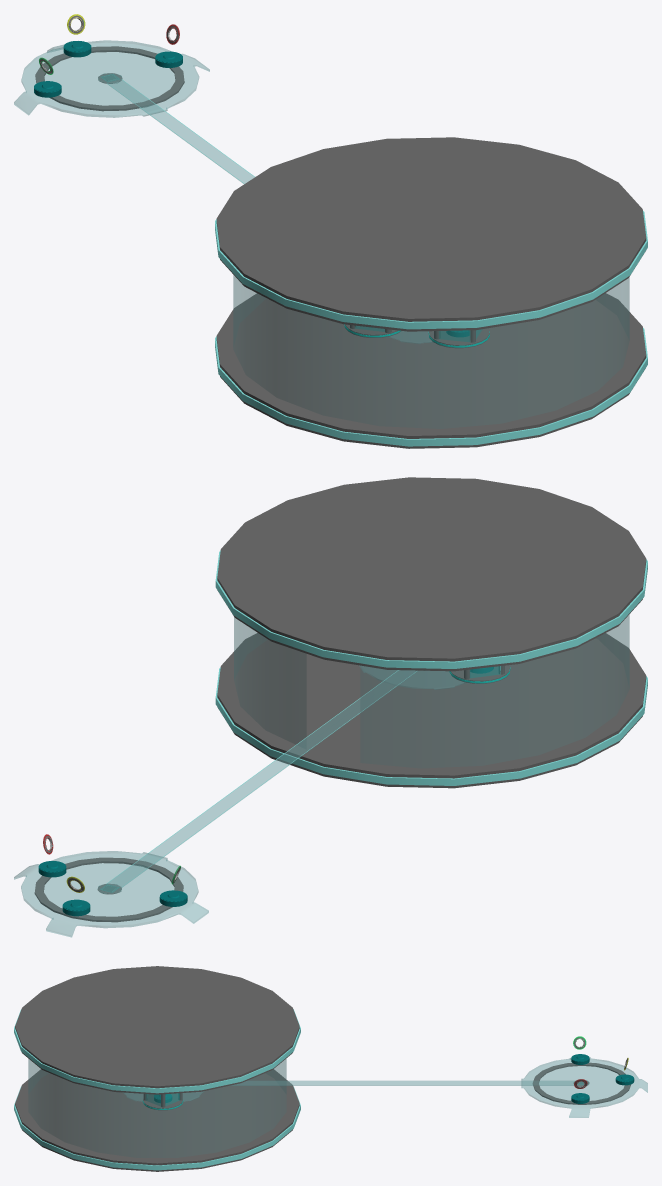
The model's file is MAINMENU (8).fbx.
3 renders of one model, top to bottom at view 1: azimuth 30°, elevation 25°; view 2: azimuth 150°, elevation 25°; view 3: azimuth 270°, elevation 25°, orthographic. The views are drawn at different scales.
Parts seen in each view (by area): view 1: pCylinder83, pCylinder84, pCylinder82, pCylinder87, pCylinder85, pCylinder86, pCube10, pPipe1, pCylinder11; view 2: pCylinder83, pCylinder84, pCylinder82, pCylinder87, pCube10, pCylinder85, pCylinder86, pPipe1, pCylinder81; view 3: pCylinder83, pCylinder84, pCylinder82, pCylinder87, pCube10, pCylinder86, pCylinder85, pPipe1, pCylinder7, pCylinder51.
Boxes of the visible parts, x1,y1,x2,y2 form: pCylinder83: [216, 137, 646, 331]; pCylinder84: [216, 293, 646, 448]; pCylinder82: [233, 275, 629, 428]; pCylinder87: [14, 40, 209, 117]; pCylinder85: [215, 211, 647, 329]; pCylinder86: [215, 328, 647, 446]; pCube10: [107, 79, 254, 183]; pPipe1: [35, 46, 184, 111]; pCylinder11: [429, 328, 489, 348]; pCylinder83: [217, 477, 646, 671]; pCylinder84: [217, 633, 646, 788]; pCylinder82: [234, 614, 629, 768]; pCylinder87: [14, 851, 208, 937]; pCube10: [106, 670, 417, 887]; pCylinder85: [215, 550, 647, 668]; pCylinder86: [215, 667, 647, 785]; pPipe1: [34, 857, 183, 922]; pCylinder81: [359, 665, 465, 689]; pCylinder83: [15, 966, 299, 1094]; pCylinder84: [15, 1069, 299, 1171]; pCylinder82: [28, 1058, 286, 1157]; pCylinder87: [521, 1057, 647, 1117]; pCube10: [230, 1080, 574, 1085]; pCylinder86: [14, 1086, 300, 1170]; pCylinder85: [14, 1009, 300, 1093]; pPipe1: [532, 1062, 631, 1104]; pCylinder7: [143, 1094, 182, 1110]; pCylinder51: [146, 1093, 179, 1107].
Size of the model in its own units: 230 by 75.83 by 509.
